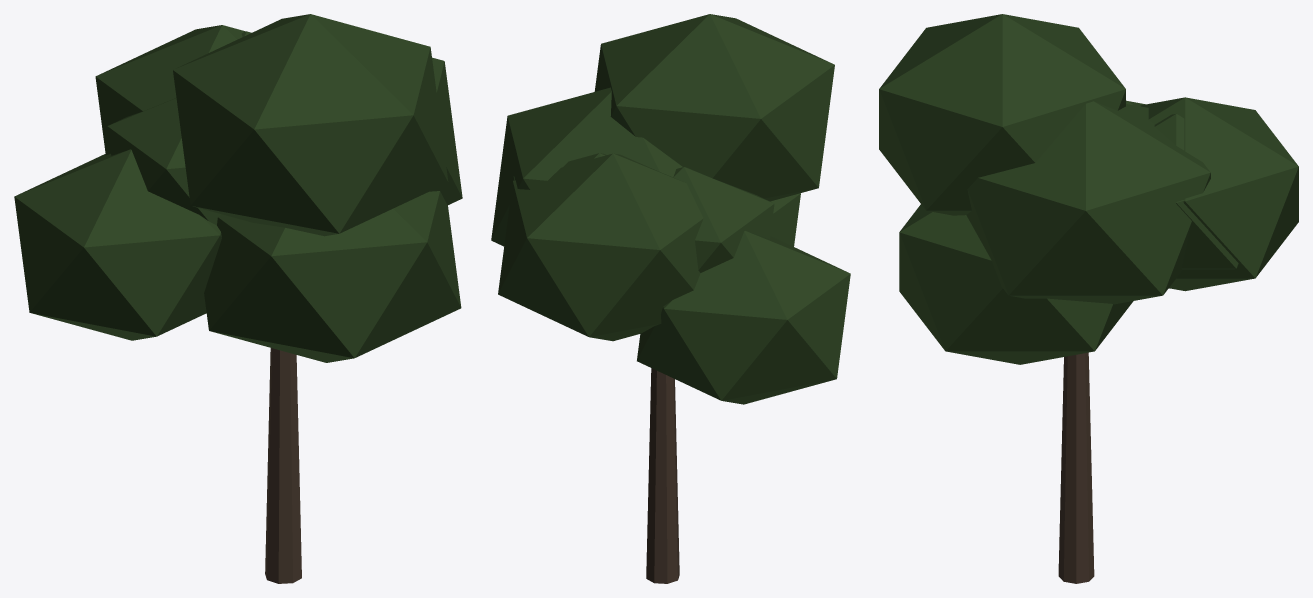
The model's file is SM_Mese_A.fbx.
The picture shows the model from 3 angles, left to right: view 1: azimuth 30°, elevation 25°; view 2: azimuth 150°, elevation 25°; view 3: azimuth 270°, elevation 25°; orthographic projection. The views are drawn at different scales.
Visible parts, largest first — view 1: Mese_A; view 2: Mese_A; view 3: Mese_A.
Part boxes in pixels (x1,y1,x2,y2): Mese_A: (14,14,462,583); Mese_A: (491,14,850,583); Mese_A: (879,14,1298,583).
Size of the model in its own units: 822 by 1200 by 820.
